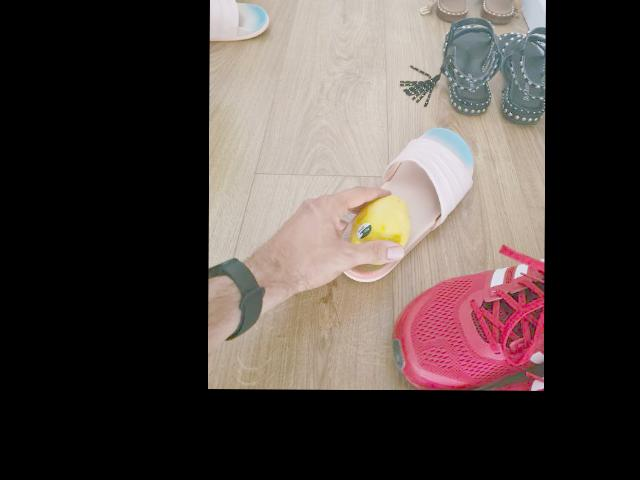lemon: (353, 194, 405, 263)
